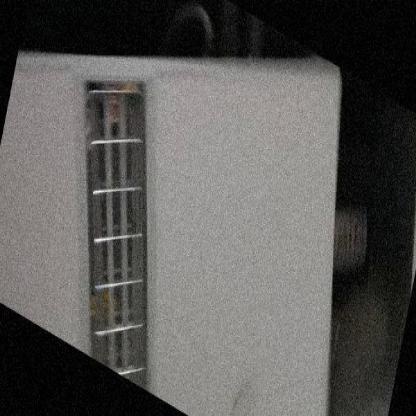light_off: (26, 22, 216, 399)
